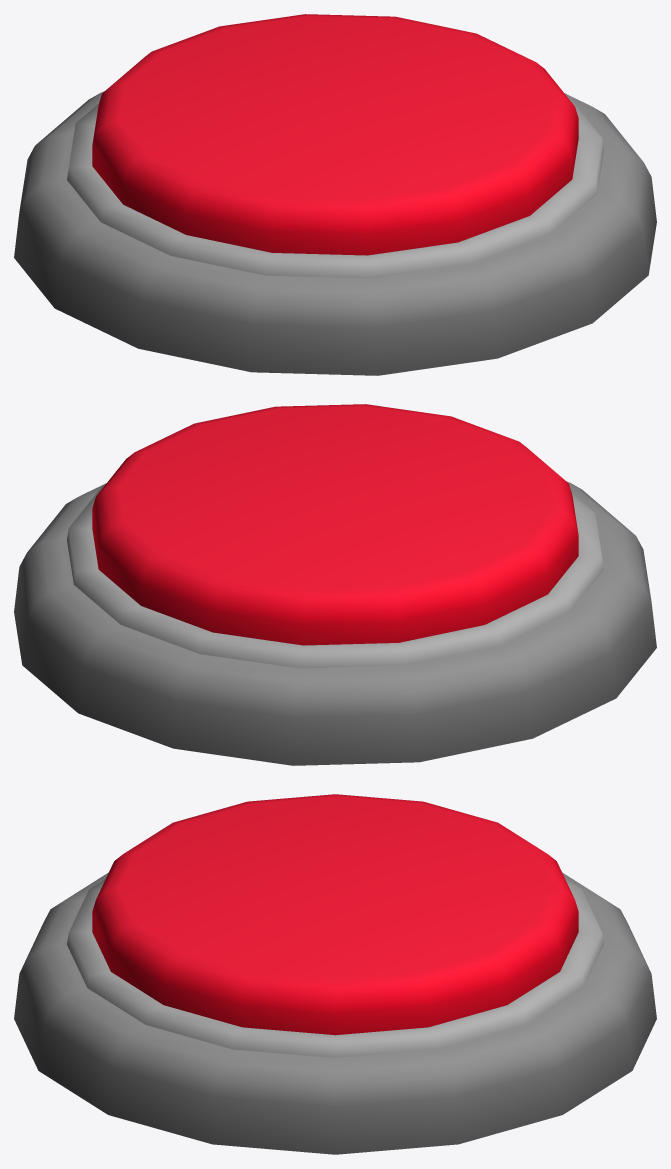
The model's file is Prop_Button_01.fbx.
3 renders of one model, top to bottom at view 1: azimuth 30°, elevation 25°; view 2: azimuth 150°, elevation 25°; view 3: azimuth 270°, elevation 25°, orthographic.
Parts seen in each view (by area): view 1: Prop_Button_01_Button, Prop_Button_01; view 2: Prop_Button_01_Button, Prop_Button_01; view 3: Prop_Button_01_Button, Prop_Button_01.
Boxes of the visible parts, x1,y1,x2,y2 form: Prop_Button_01_Button: (92,14,578,255); Prop_Button_01: (14,91,656,375); Prop_Button_01_Button: (92,404,578,645); Prop_Button_01: (14,481,656,765); Prop_Button_01_Button: (92,794,578,1035); Prop_Button_01: (14,872,656,1154).
Size of the model in its own units: 101 by 22.6 by 101.
